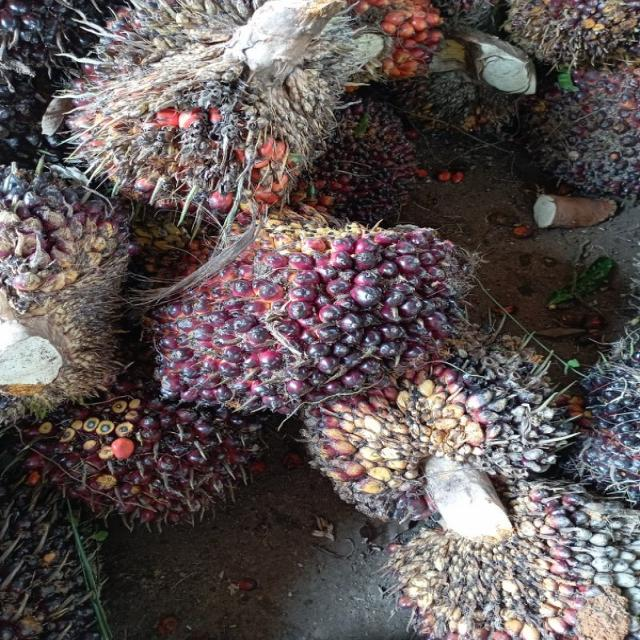fraksi 1: (98, 190, 484, 406)
